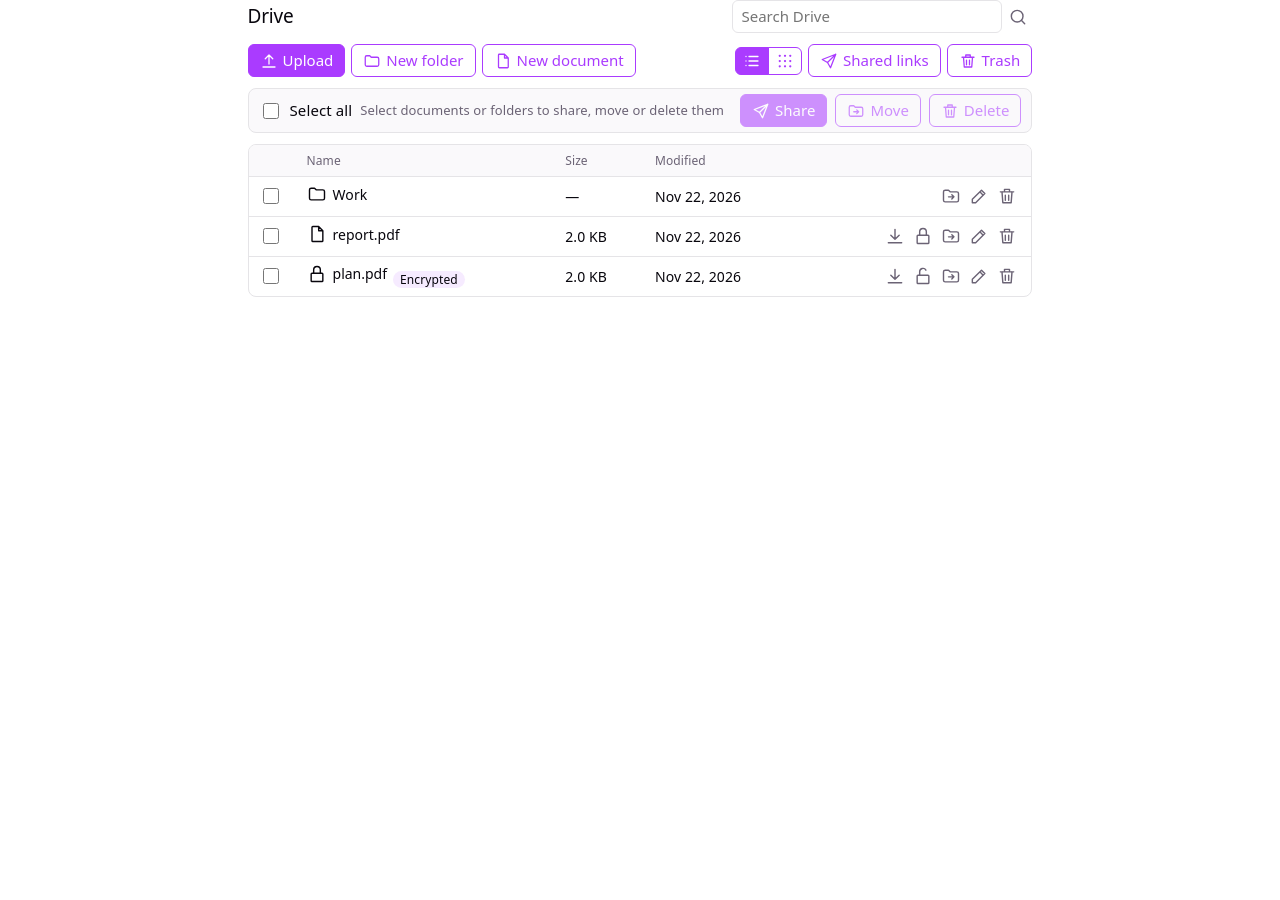
Test: FileBrowser (Drive): sharing › shares a whole folder
This screenshot has width=1280, height=900.
Click the checkbox named "Select folder Work". click: click(270, 196)
box: [262,188,278,204]
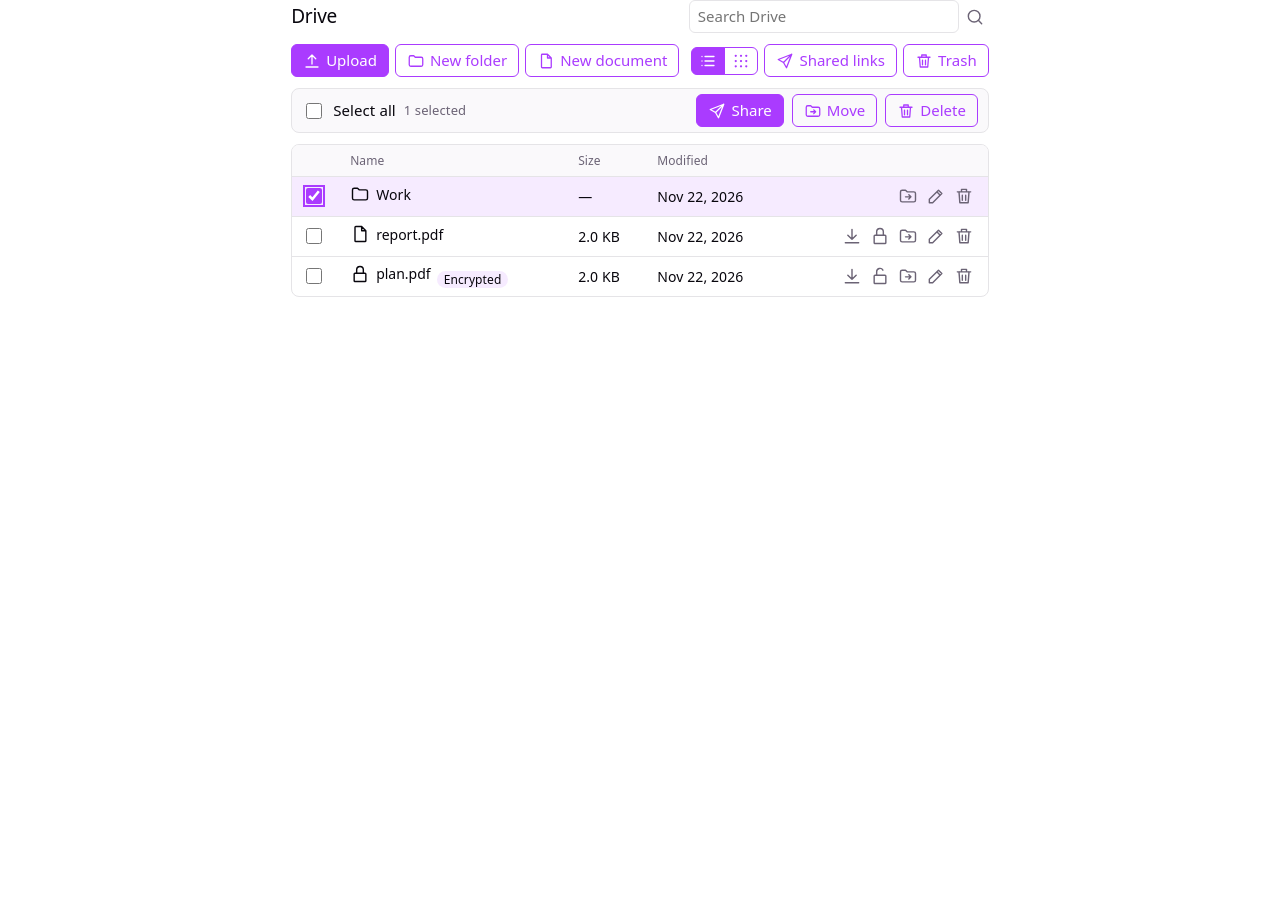
Click the checkbox named "Select report.pdf". click: click(314, 236)
box: [306,228,322,244]
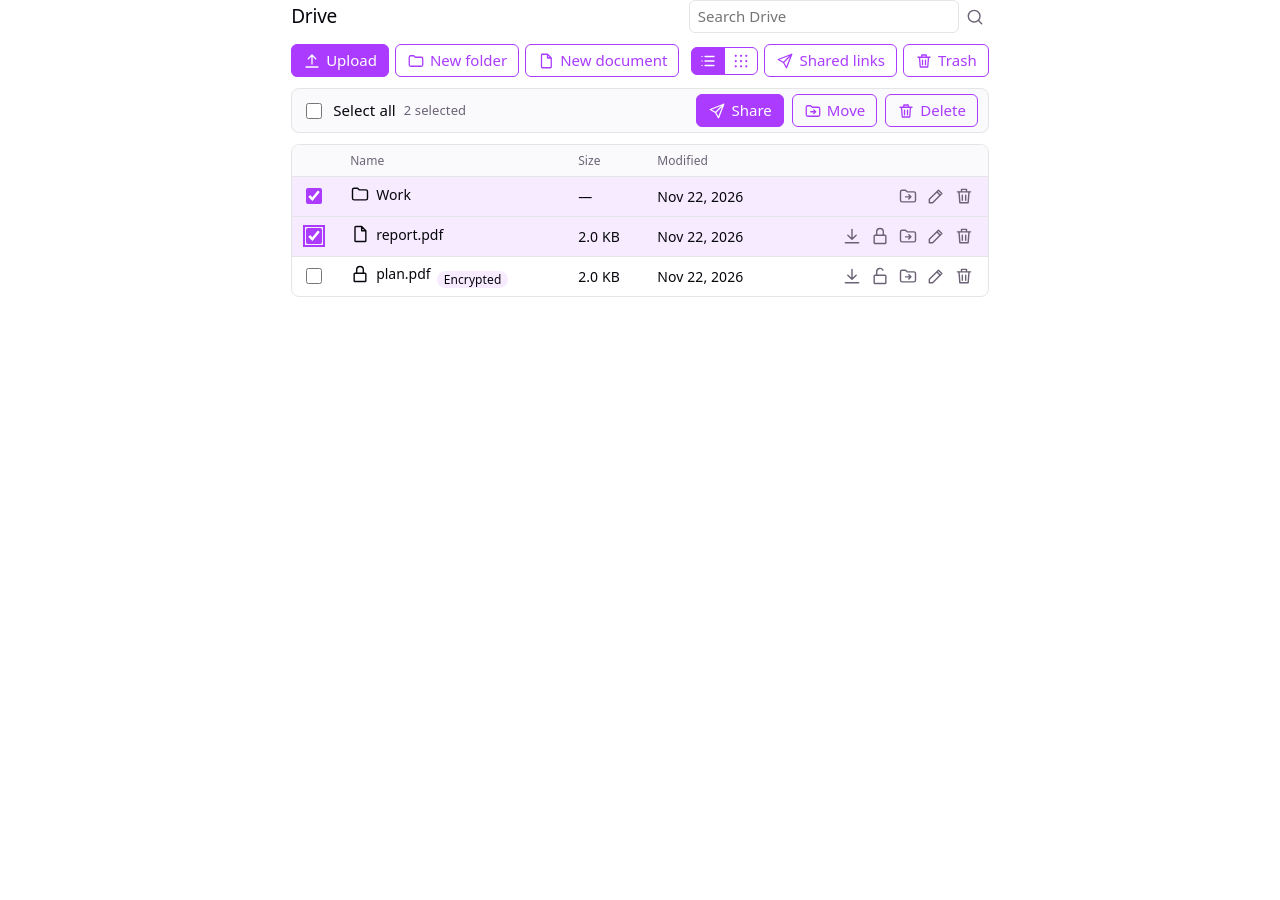
Click the button "Share". click: click(740, 110)
box: [696,94,784,127]
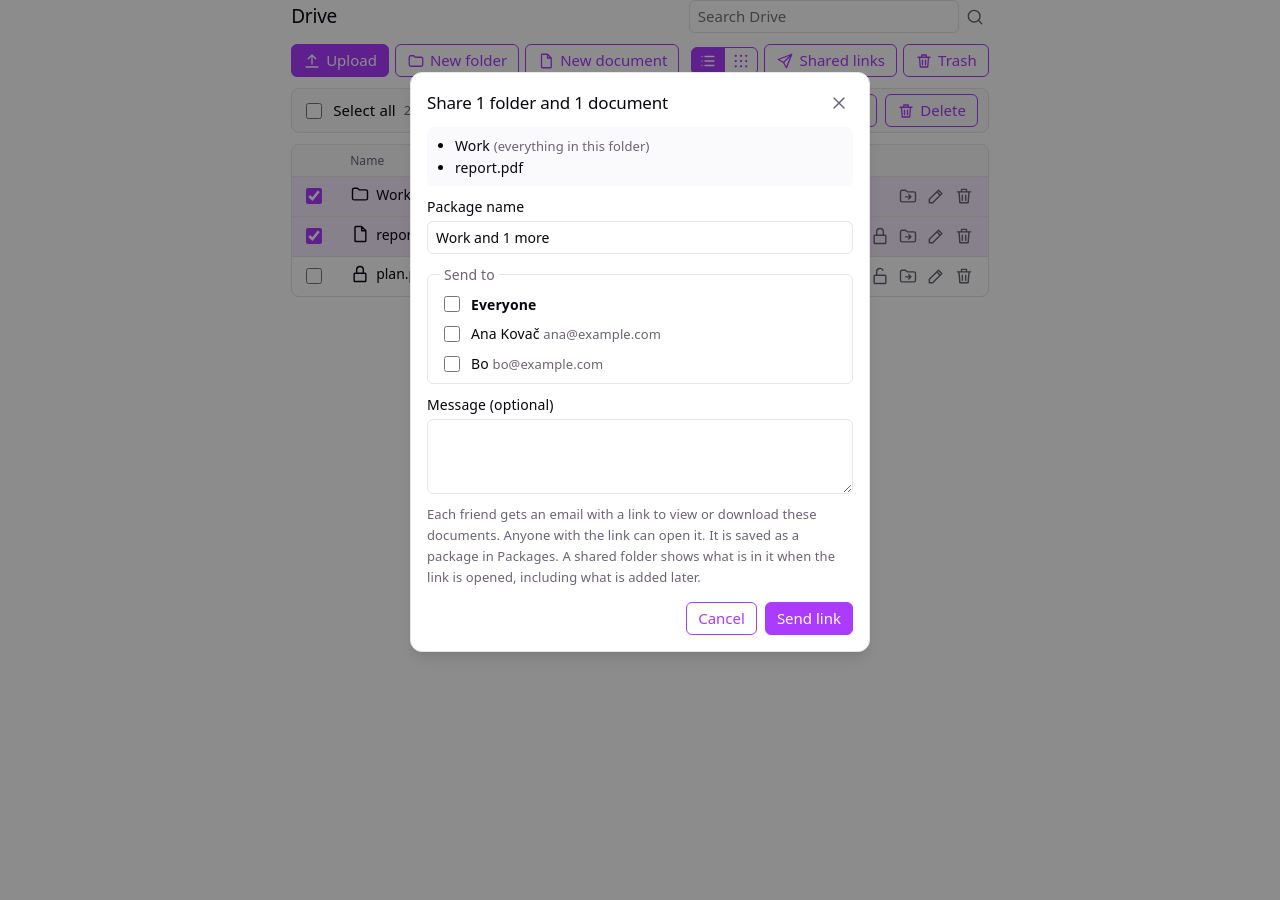
expect the text "(everything in this folder)" is shown: met, box [494,137,650,155]
expect the text "including what is added later" is shown: met, box [427,547,835,586]
Replace the text in the field labelled "Package name" with "Work files". click: (640, 238)
box: [427,221,853,254]
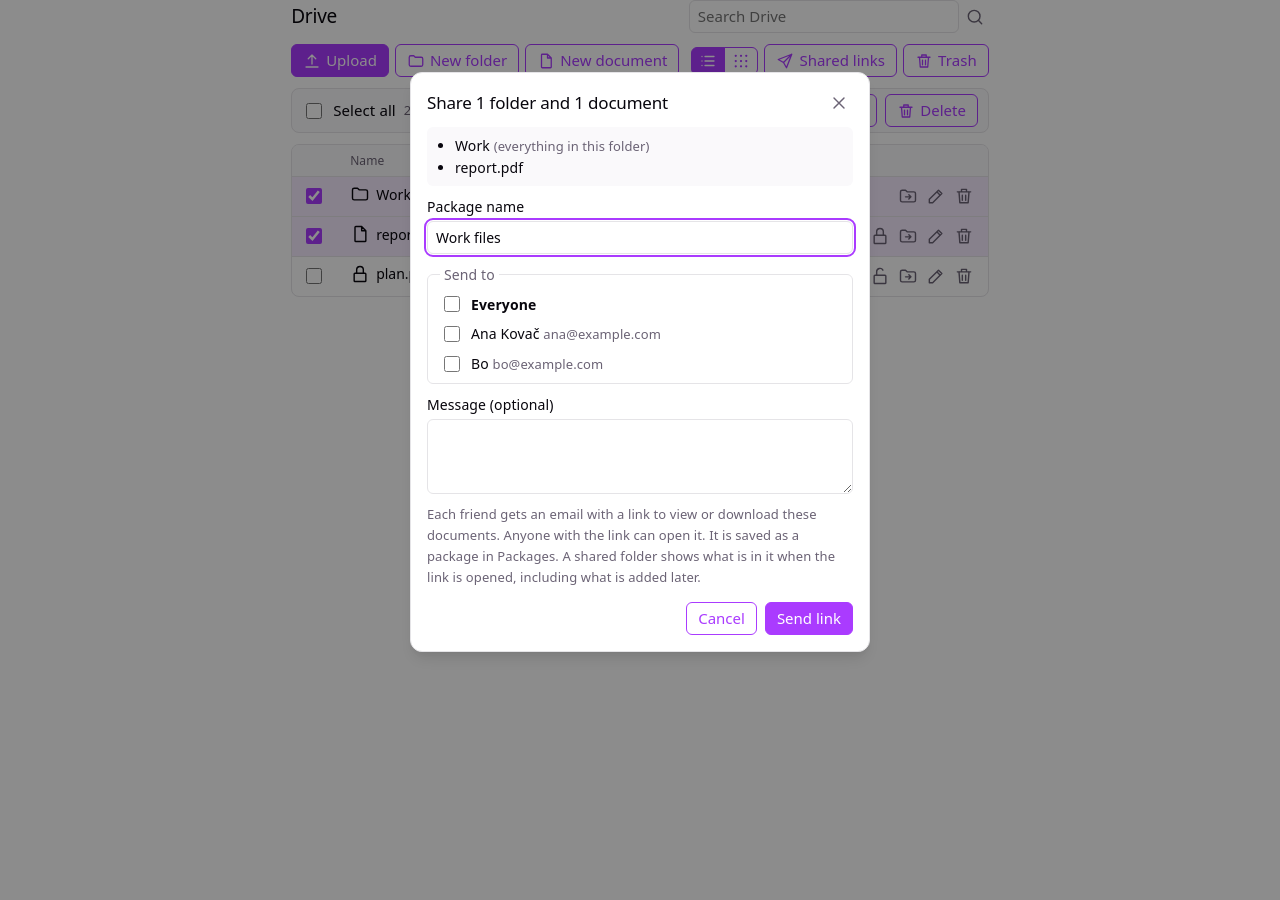
Click the checkbox labelled "Bo bo@example.com". click: click(452, 364)
box: [444,356,460,372]
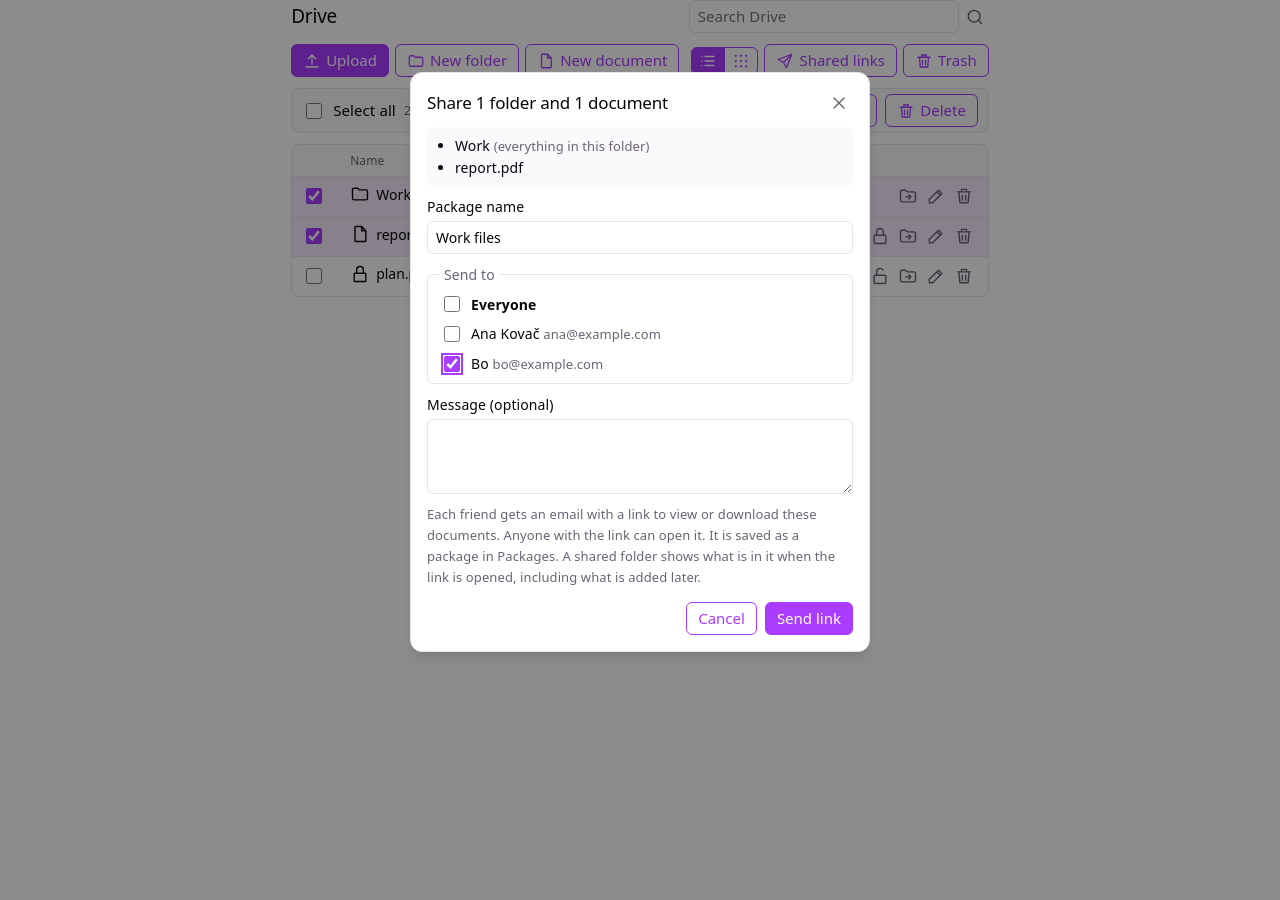
Click the button "Send link". click: click(809, 618)
box: [765,602,853,635]
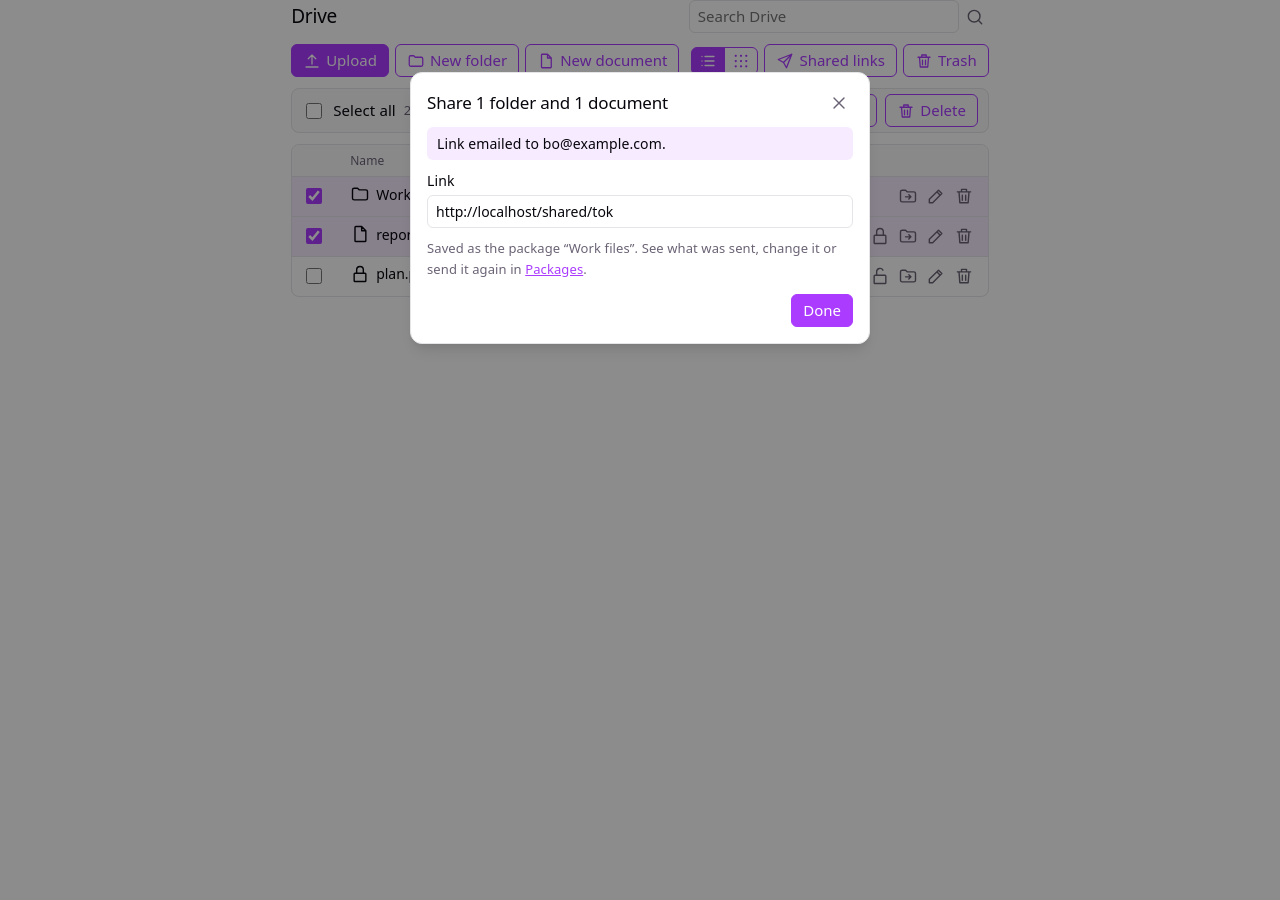
expect the message "Link emailed to bo@example.com." is shown: met, box [427,127,853,160]
